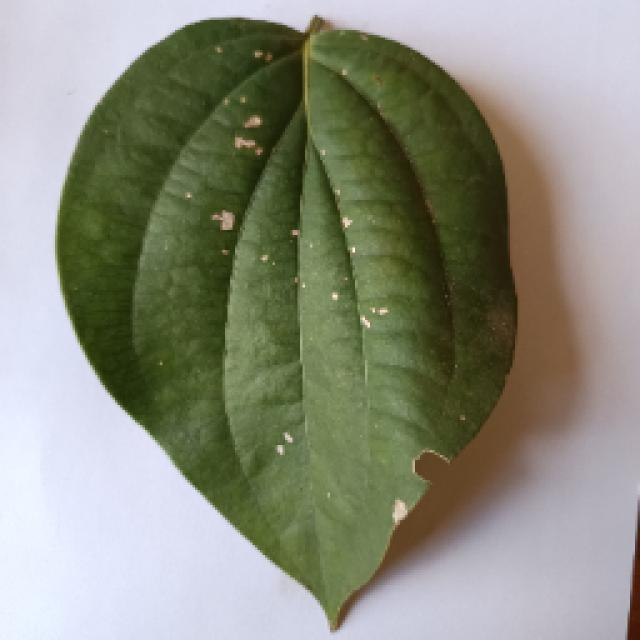pollu-disease: (52, 15, 510, 625)
